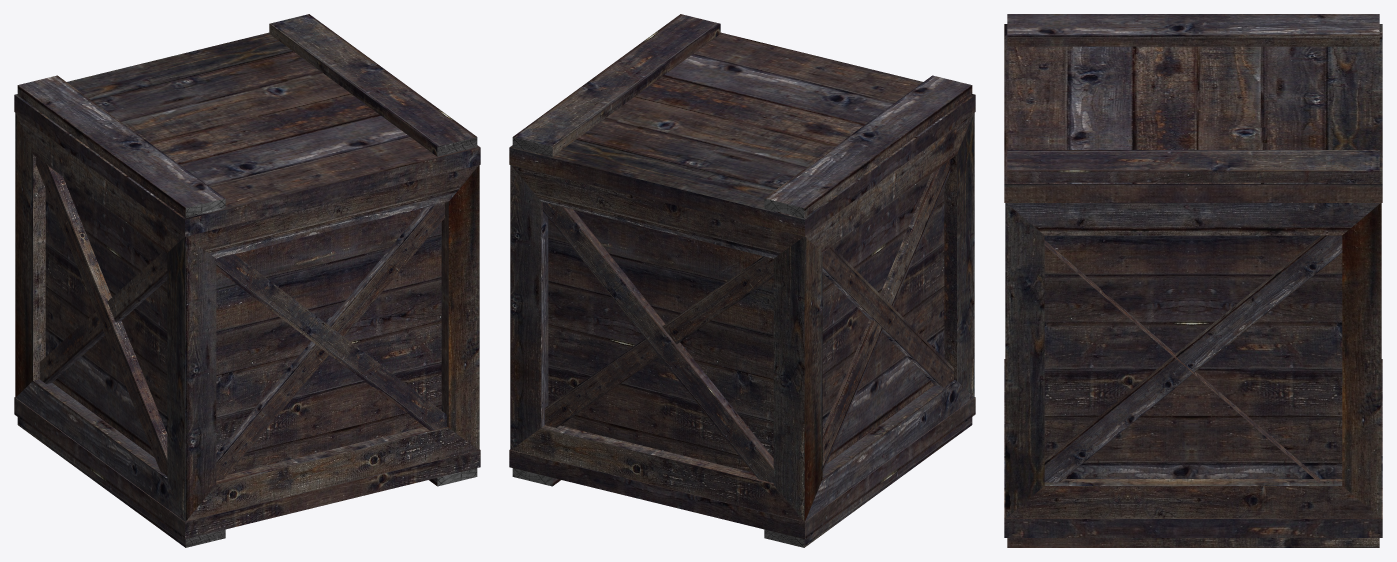
File: caixa2.glb
The picture shows the model from 3 angles, left to right: view 1: azimuth 30°, elevation 25°; view 2: azimuth 150°, elevation 25°; view 3: azimuth 270°, elevation 25°; orthographic projection. The views are drawn at different scales.
Visible parts, largest first — view 1: Crate3_3; view 2: Crate3_3; view 3: Crate3_3.
Boxes of the visible parts, x1,y1,x2,y2 form: Crate3_3: (14,14,480,547); Crate3_3: (509,14,975,547); Crate3_3: (1004,14,1382,547).
Bounding box in the file's own units: 0.6031 × 0.6623 × 0.6031.
2 materials, 2 textured.
